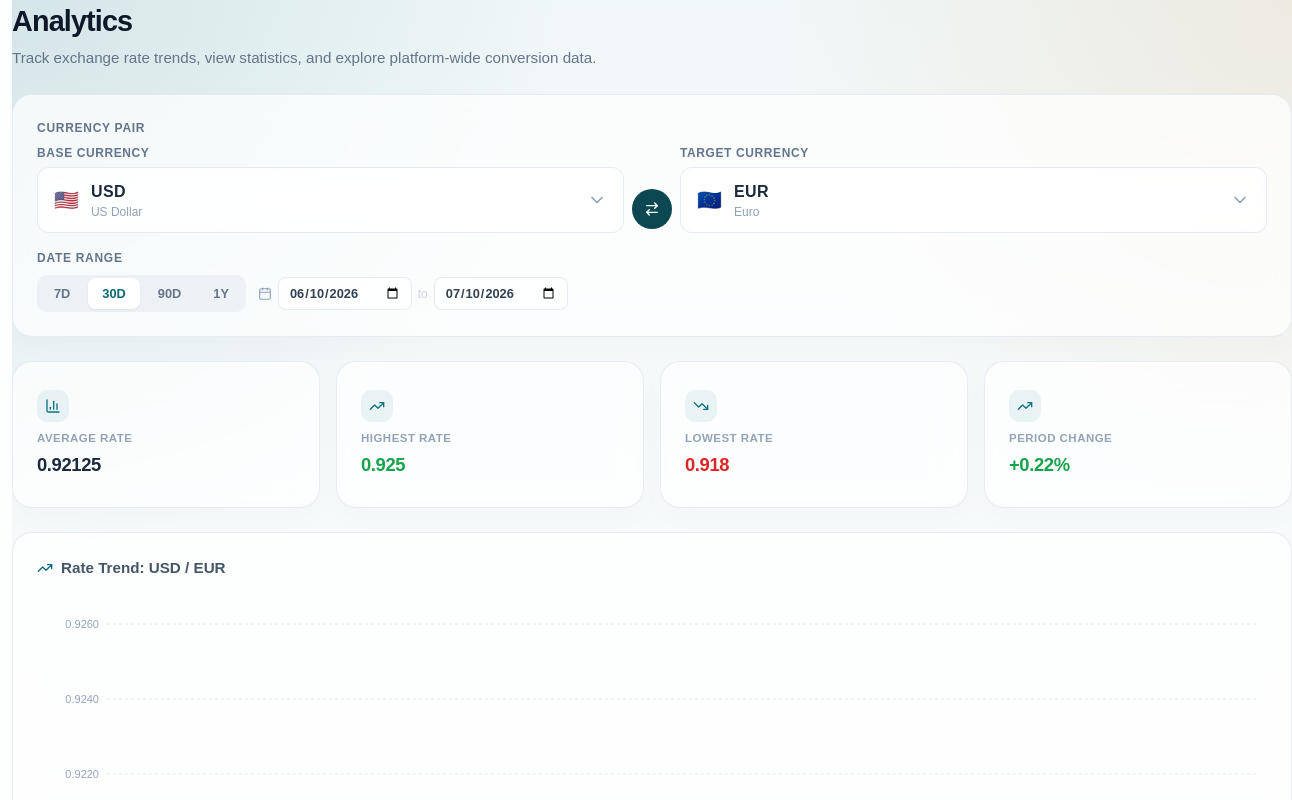
Test: DashboardAnalytics › shows reset button when custom dates are used
Type "2026-01-01" into the date field named "Start date" at (345, 294), box [278,277,412,310]
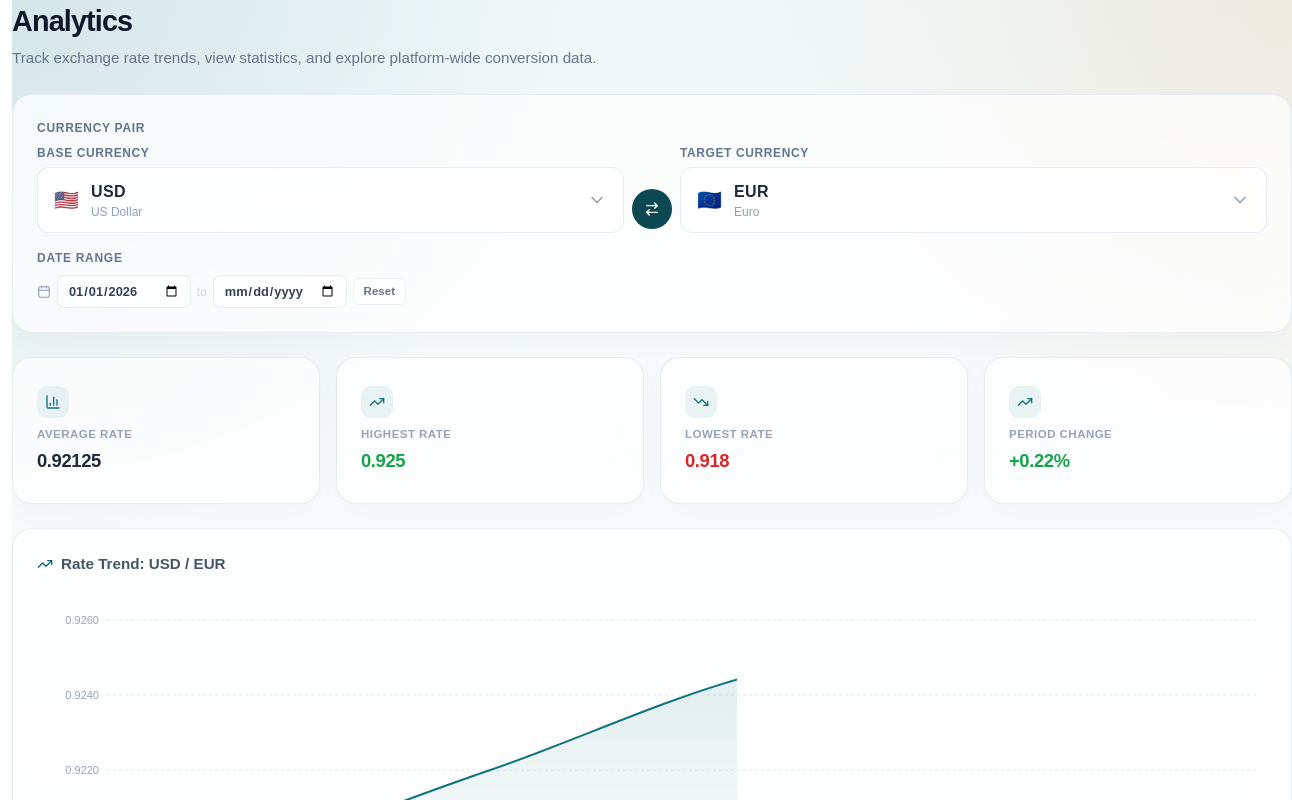
Expected: the button "Reset" is shown, [353,278,406,305]
